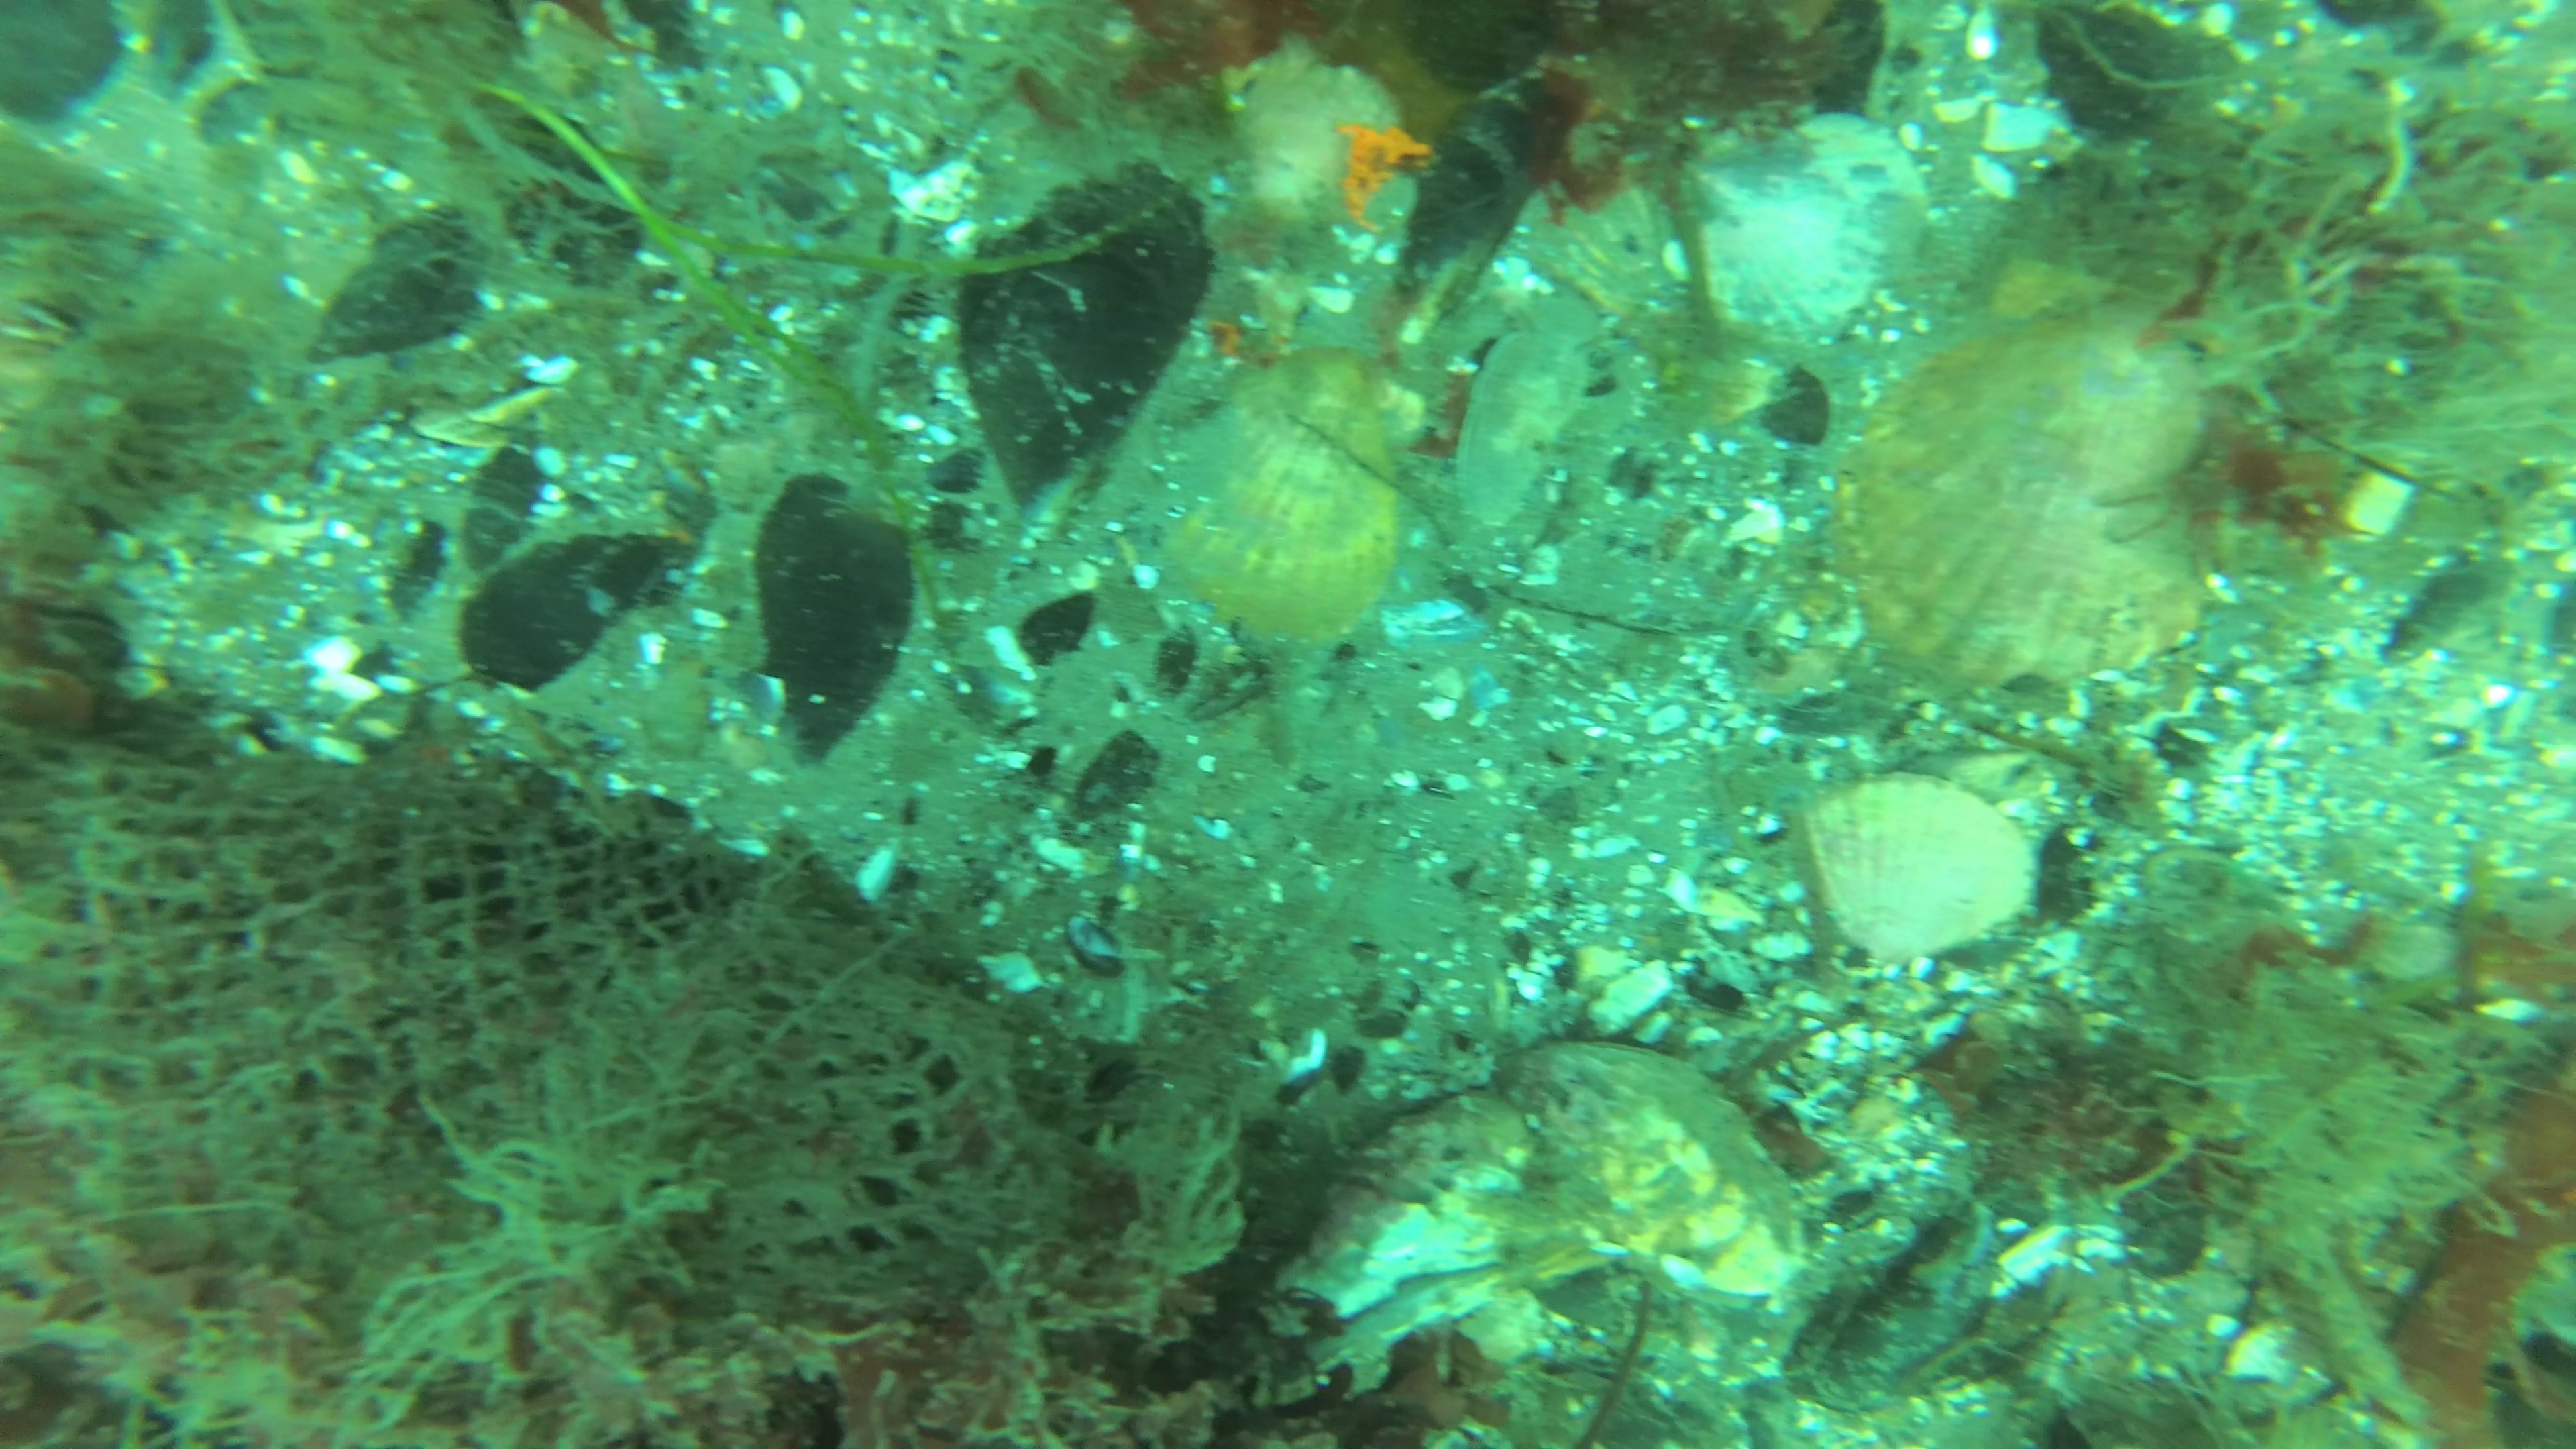scallop: (1833, 299, 2217, 706), (1113, 338, 1407, 648), (1499, 1023, 1812, 1313), (1654, 97, 1944, 363), (1796, 763, 2035, 971), (1217, 46, 1399, 242)
